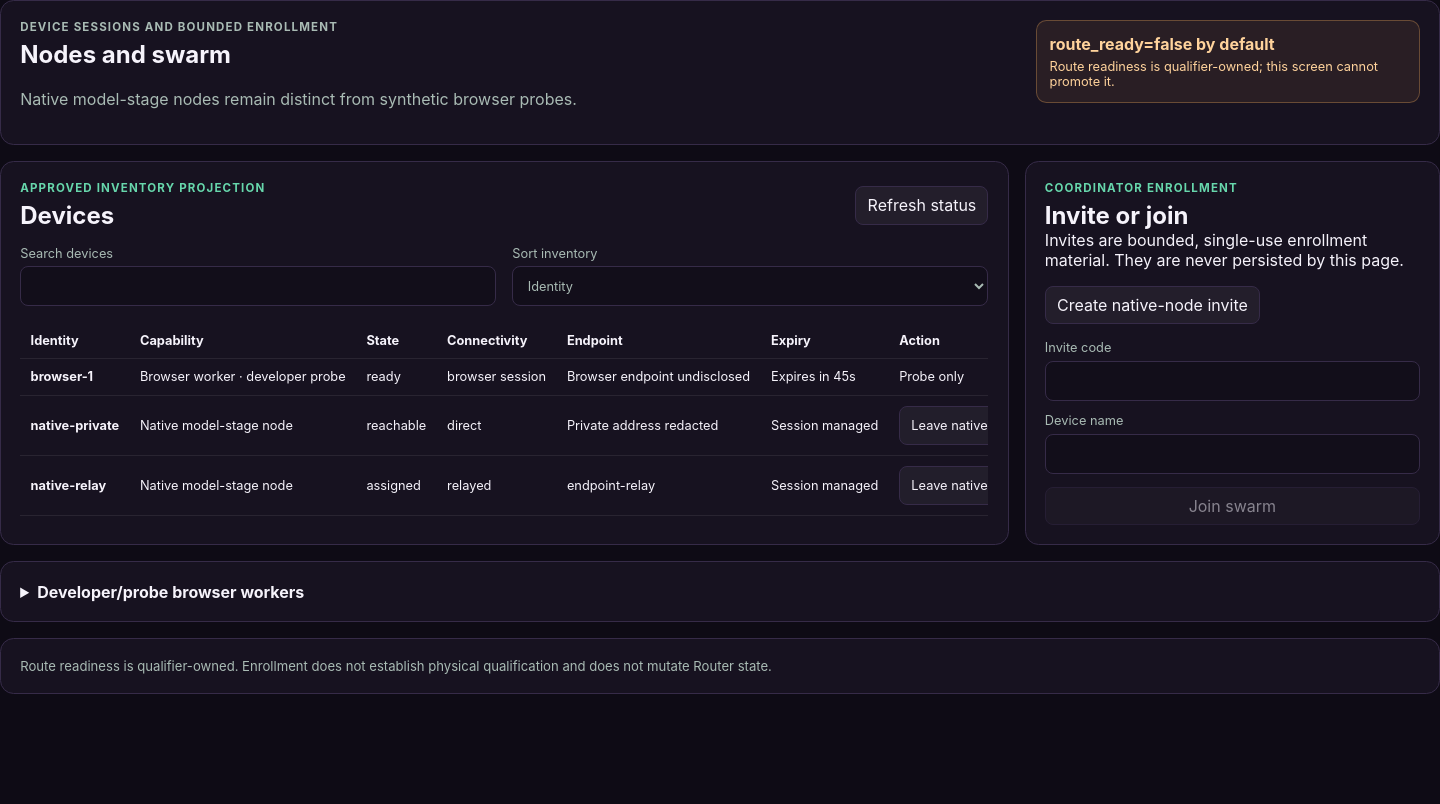
Test: SwarmWorkspace › requires explicit confirmation before leave and states the Router boundary
This screenshot has width=1440, height=804.
Click the button "Leave native-relay" at [967, 486], box [899,466,1035,505]
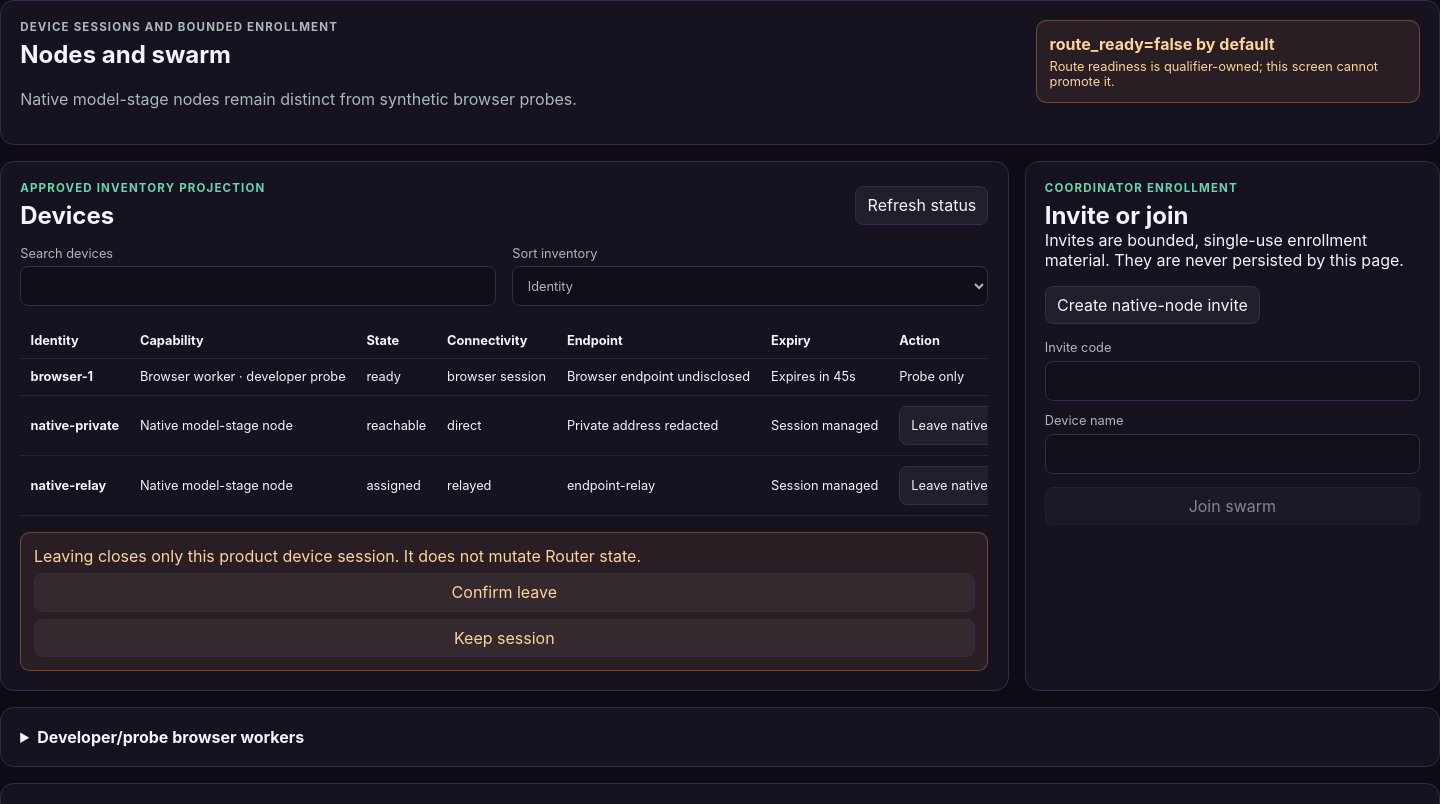
Check: the text "does not mutate Router state" is shown, box [34,546,641,566]
Click the button "Confirm leave" at [504, 592], box [34,573,975,612]
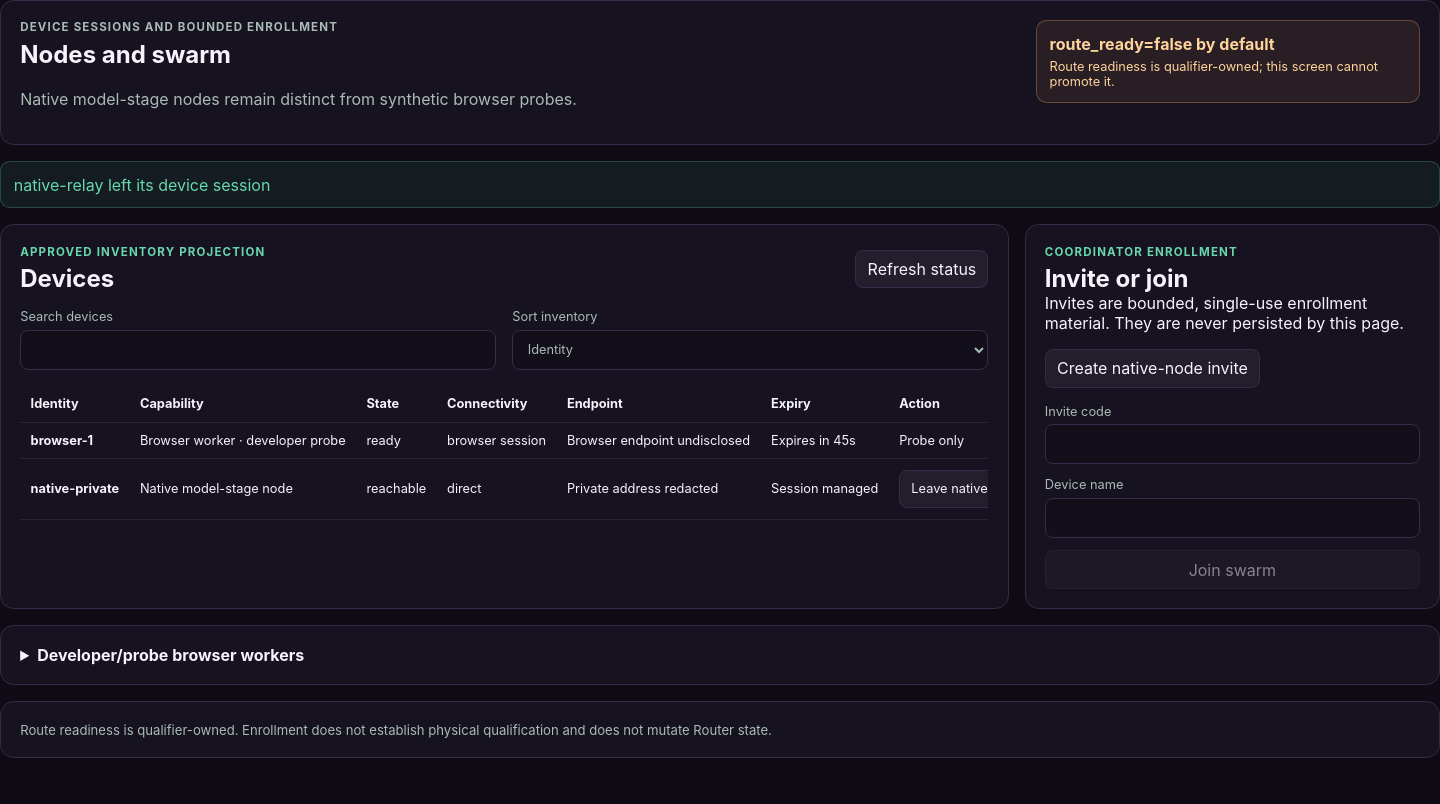
Check: the text "native-relay left its device session" is shown, box [0,161,1439,208]
